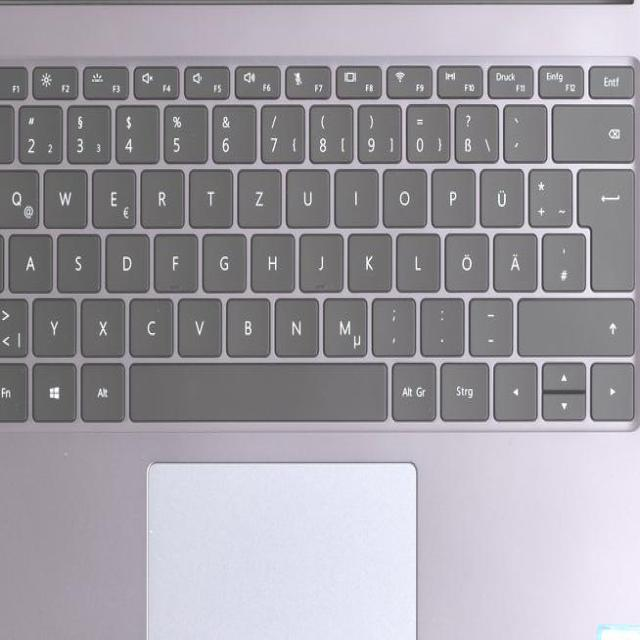0: (403, 98, 449, 161)
1: (0, 100, 22, 160)
2: (15, 100, 61, 161)
3: (64, 100, 109, 161)
4: (113, 99, 158, 160)
5: (161, 99, 206, 160)
6: (210, 99, 255, 161)
7: (259, 100, 304, 161)
8: (307, 99, 352, 161)
9: (354, 99, 400, 161)
a: (6, 229, 51, 290)
accent: (500, 98, 545, 159)
ae: (492, 228, 537, 289)
alt-left: (79, 358, 124, 419)
altgr-right: (389, 358, 435, 419)
b: (223, 293, 270, 354)
c: (127, 294, 172, 354)
caret: (0, 100, 18, 161)
comma: (369, 293, 414, 354)
d: (103, 229, 149, 290)
del: (549, 99, 635, 160)
e: (90, 164, 135, 226)
enter: (575, 161, 634, 289)
f: (152, 229, 197, 290)
g: (200, 229, 245, 290)
h: (248, 228, 294, 290)
hash: (539, 228, 584, 289)
i: (333, 164, 378, 224)
j: (297, 228, 342, 290)
k: (346, 228, 391, 290)
keyboard: (0, 51, 640, 436)
l: (395, 228, 440, 289)
less: (0, 292, 26, 355)
m: (320, 293, 366, 355)
minus: (466, 293, 511, 353)
n: (272, 293, 318, 354)
o: (380, 164, 426, 225)
oe: (443, 229, 489, 290)
p: (429, 164, 475, 225)
plus: (526, 163, 571, 224)
point: (418, 293, 463, 353)
q: (0, 164, 38, 226)
r: (138, 164, 183, 225)
s: (54, 229, 100, 290)
shift-left: (0, 292, 24, 355)
shift-lock: (0, 229, 36, 290)
shift-right: (513, 291, 635, 354)
space: (124, 356, 387, 419)
ss: (451, 99, 497, 160)
strg-left: (0, 356, 25, 418)
strg-right: (438, 357, 489, 418)
t: (187, 164, 232, 225)
tab: (0, 163, 30, 226)
u: (284, 164, 329, 225)
ue: (477, 164, 523, 225)
v: (175, 293, 221, 354)
w: (41, 164, 86, 226)
x: (80, 293, 125, 354)
y: (31, 293, 76, 354)
z: (235, 164, 281, 225)
